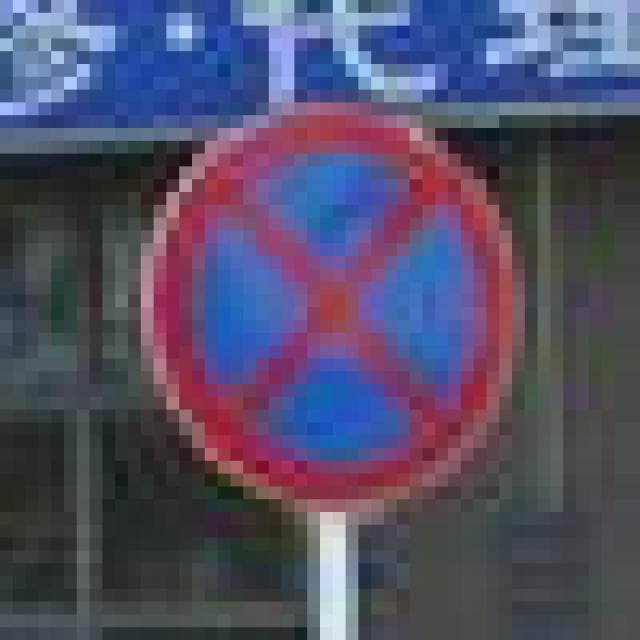no_parking: (128, 90, 512, 487)
